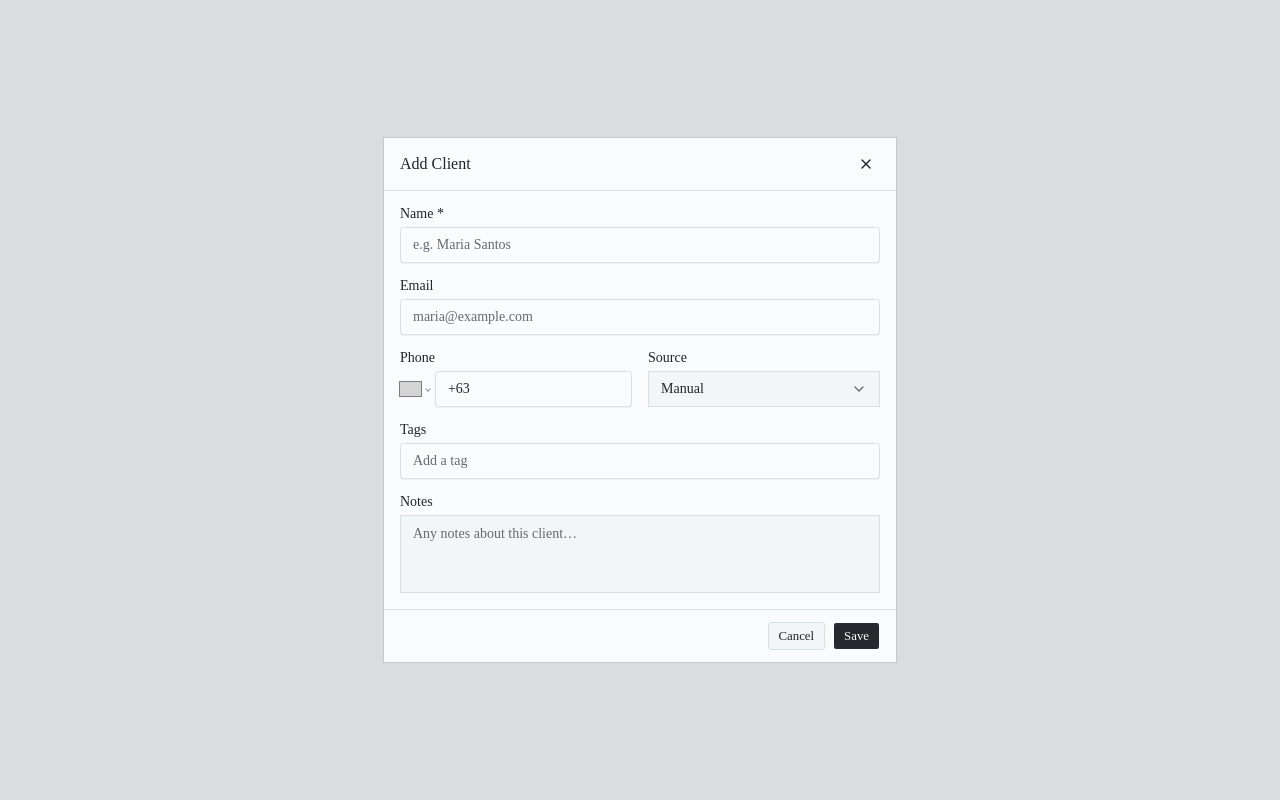
ClientFormModal › opens UnsavedChangesDialog when dirty form is closed
In the field with placeholder "e.g. Maria Santos": (640, 245) [400,227,880,263], type "Test"
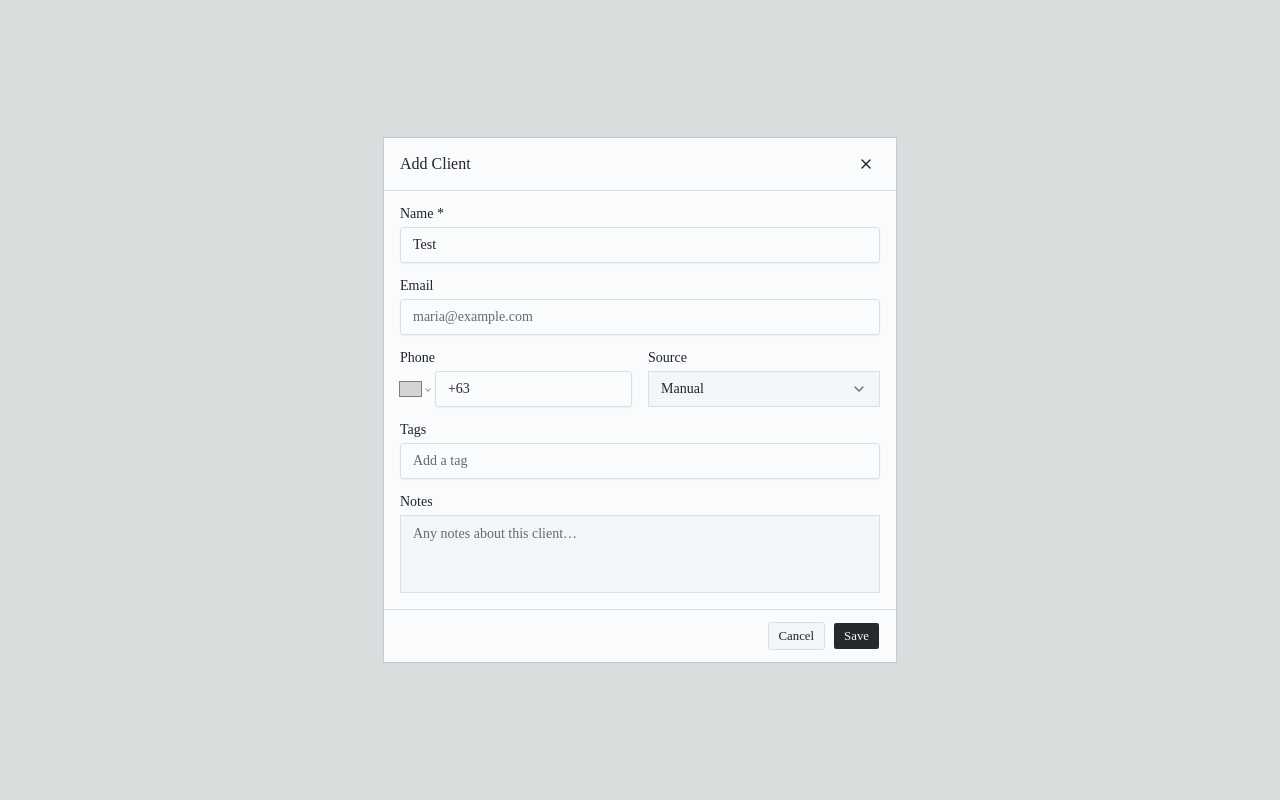
Click the button named "close": (866, 164) [852,150,880,178]
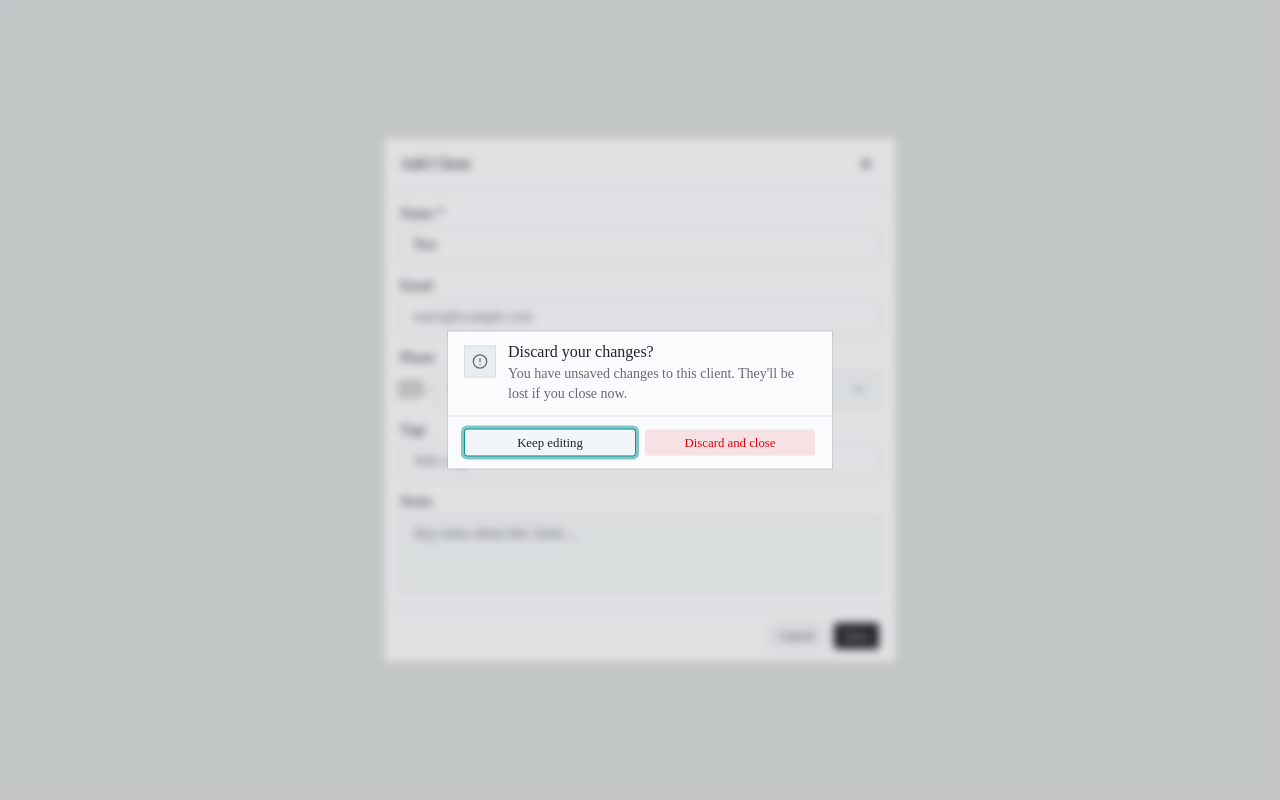
Expected: the button "Discard and close" is shown, [644,428,816,456]
